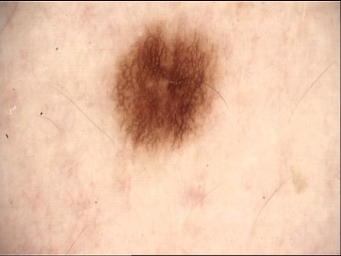nevus: (112, 27, 213, 147)
